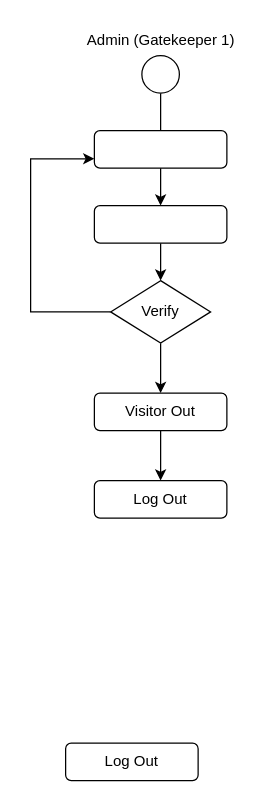
The diagram is 270 pixels wide and 803 high, and some of its shapes have lost their labels. Each missing label, with the box of its shape:
Authentication: (93, 204, 227, 243)
Log in: (93, 129, 227, 168)
